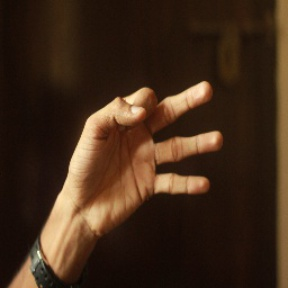K: (72, 76, 221, 213)
